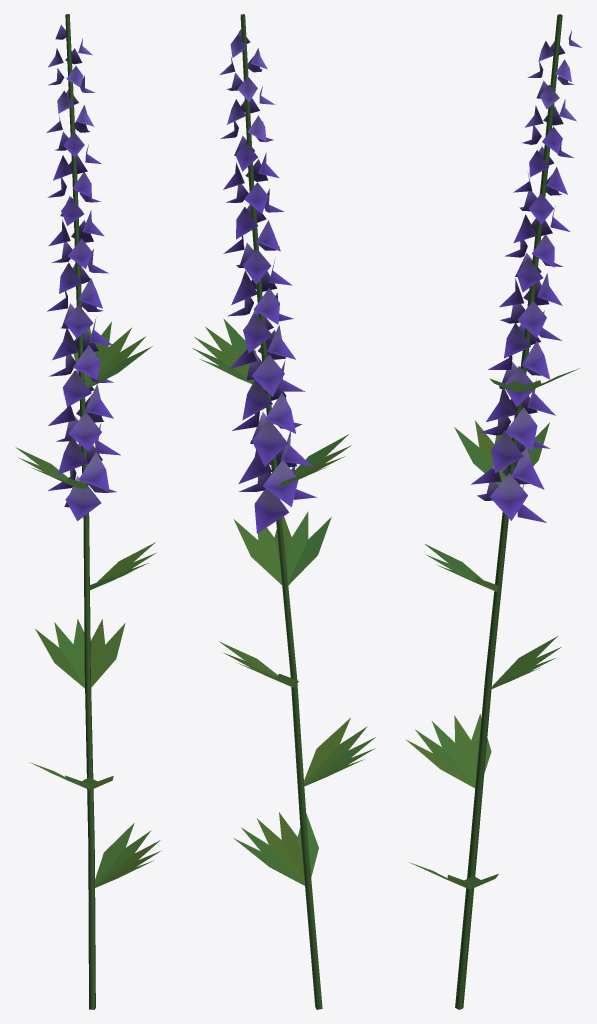
Rendered from flower-lupine-a.lod0.glb.
3 renders of one model, left to right at view 1: azimuth 30°, elevation 25°; view 2: azimuth 150°, elevation 25°; view 3: azimuth 270°, elevation 25°, orthographic. The views are drawn at different scales.
Parts seen in each view (by area): view 1: flower-lupine-a.lod0; view 2: flower-lupine-a.lod0; view 3: flower-lupine-a.lod0.
Part boxes in pixels (x1,y1,x2,y2): flower-lupine-a.lod0: [15, 14, 161, 1009]; flower-lupine-a.lod0: [192, 14, 375, 1009]; flower-lupine-a.lod0: [405, 14, 582, 1009].
Bounding box in the file's own units: 0.1095 × 0.7406 × 0.1187.
